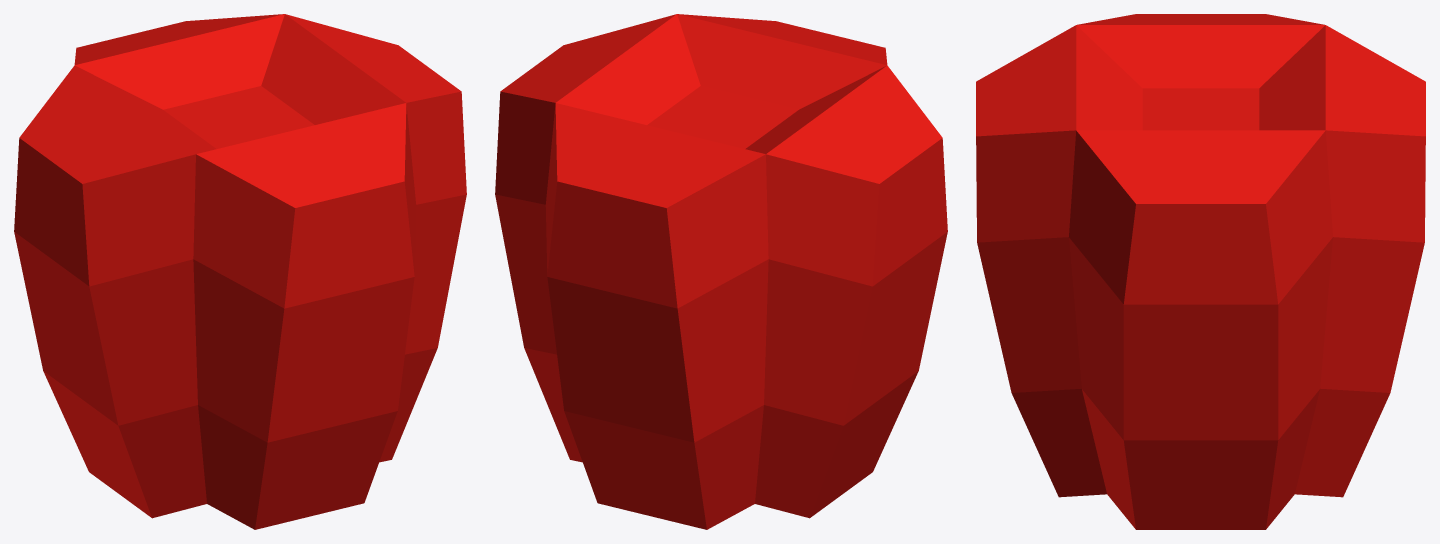
File: pepperBodyCollider.obj
3 renders of one model, left to right at view 1: azimuth 30°, elevation 25°; view 2: azimuth 150°, elevation 25°; view 3: azimuth 270°, elevation 25°, orthographic. The views are drawn at different scales.
Parts seen in each view (by area): view 1: paprika, paprika.003, paprika.002, paprika.001, paprika.004; view 2: paprika.001, paprika.003, paprika.002, paprika, paprika.004; view 3: paprika.002, paprika, paprika.001, paprika.003, paprika.004.
Part boxes in pixels (x1,y1,x2,y2): paprika: (193, 103, 416, 529); paprika.003: (14, 65, 216, 518); paprika.002: (261, 14, 466, 462); paprika.001: (74, 14, 284, 109); paprika.004: (163, 86, 314, 148); paprika.001: (545, 103, 768, 529); paprika.003: (745, 65, 947, 518); paprika.002: (495, 14, 700, 462); paprika: (677, 14, 887, 109); paprika.004: (647, 86, 798, 148); paprika.002: (1069, 130, 1332, 529); paprika: (976, 25, 1142, 497); paprika.001: (1259, 25, 1425, 497); paprika.003: (1076, 14, 1325, 88); paprika.004: (1142, 88, 1259, 130).
Bounding box in the file's own units: 0.084 × 0.0808 × 0.084.
